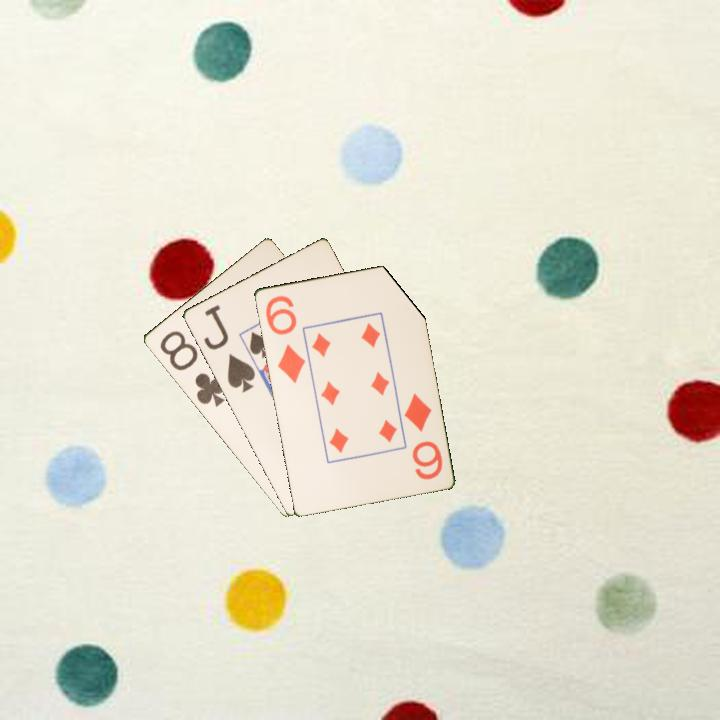6d: (262, 292, 308, 386), (400, 389, 445, 482)
8c: (156, 327, 228, 410)
Js: (199, 301, 258, 395)
